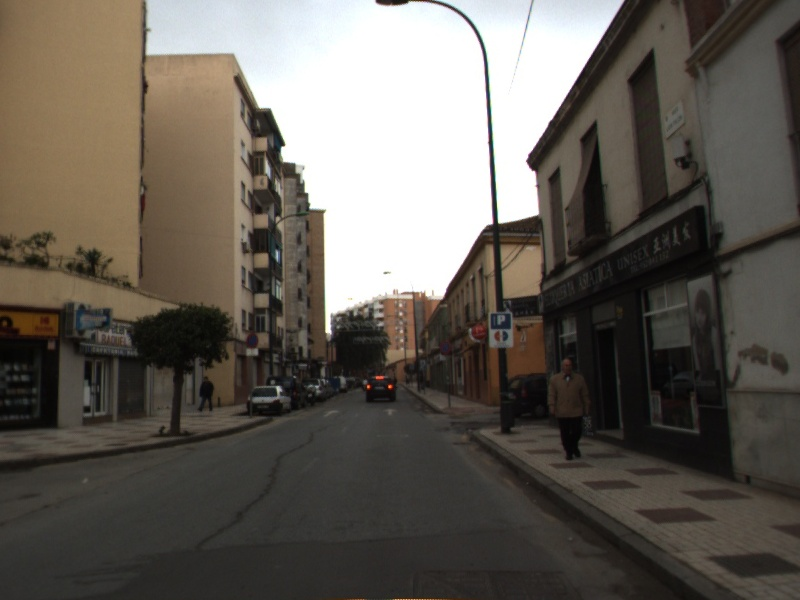STRAIGHT: (321, 408, 342, 419), (381, 406, 400, 417)
